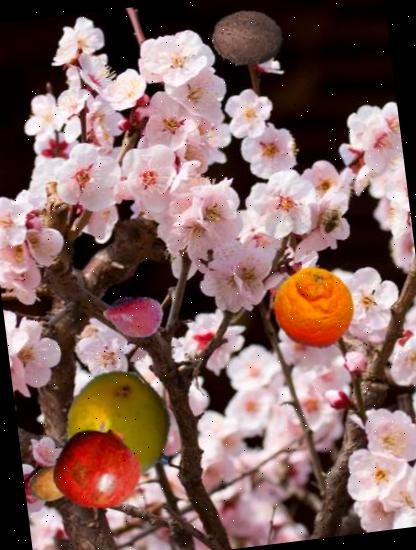Cactus: (25, 445, 96, 517)
Cocos: (207, 0, 287, 78)
Mandarine: (268, 263, 361, 355)
Maracuja: (60, 366, 184, 490)
Pomegranate: (50, 420, 146, 517)
Salak: (99, 283, 167, 351)
